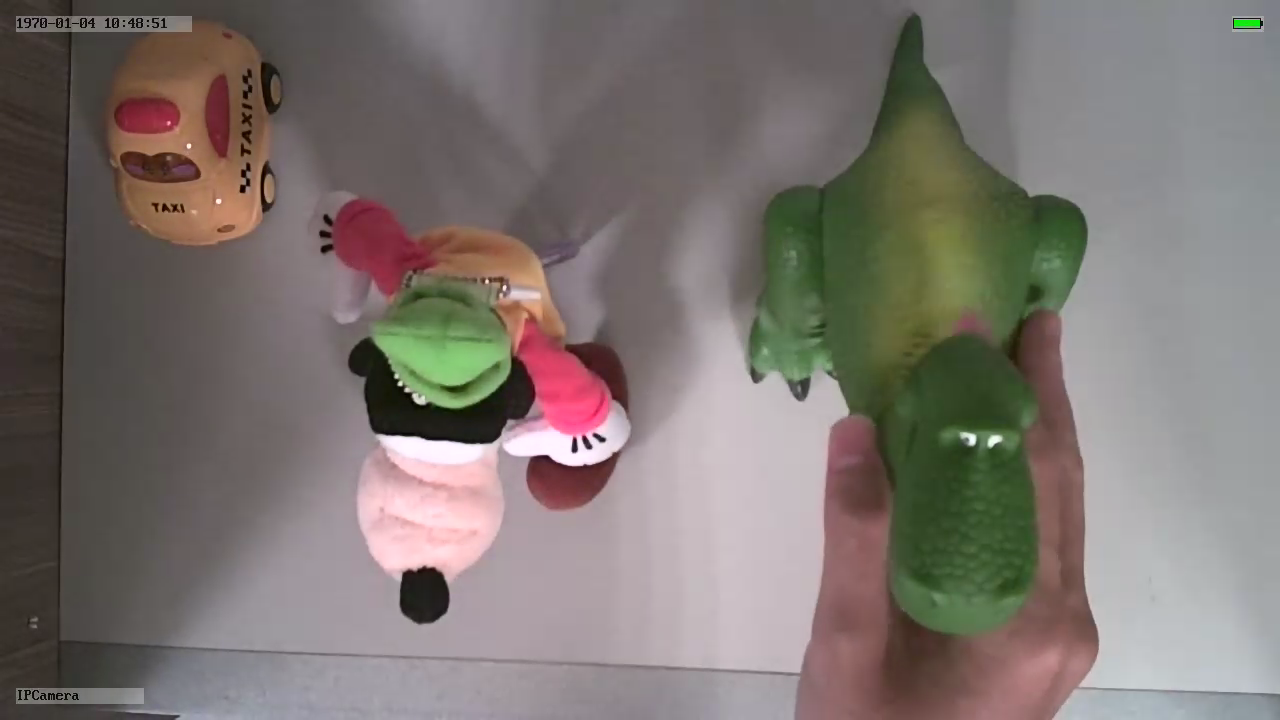goofy: (307, 187, 631, 634)
